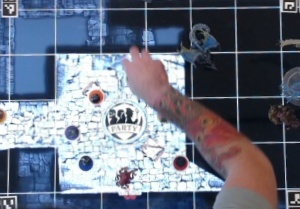blue: (74, 153, 99, 175)
orange: (85, 87, 108, 105)
red: (169, 151, 189, 172)
violet: (60, 122, 80, 145)
yellow: (0, 103, 8, 125)
